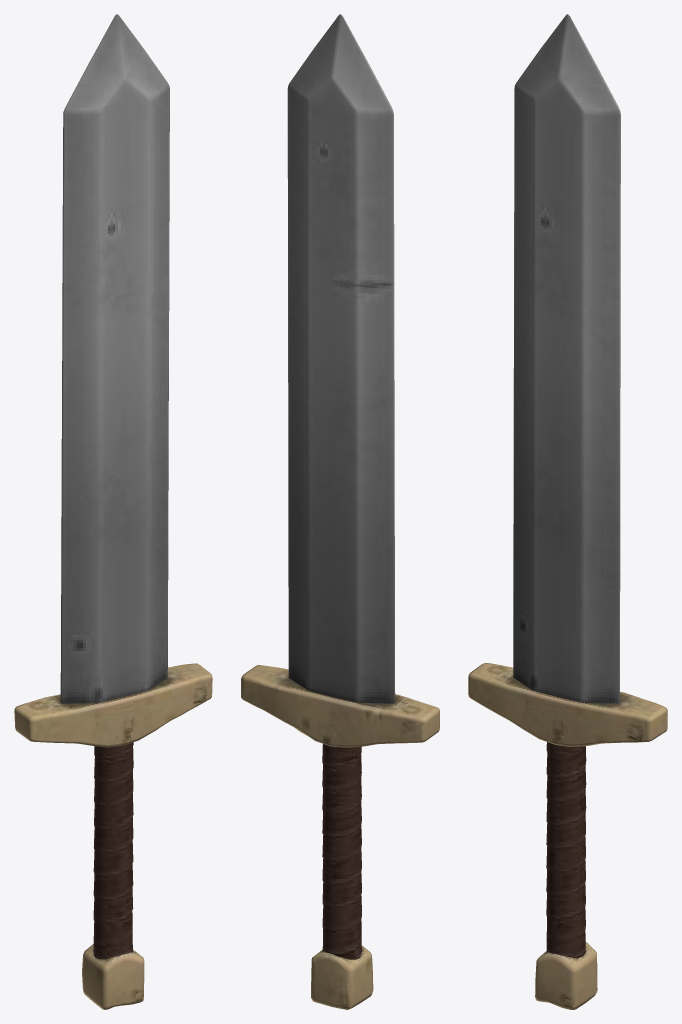
The model's file is stylized_sword.glb.
3 renders of one model, left to right at view 1: azimuth 30°, elevation 25°; view 2: azimuth 150°, elevation 25°; view 3: azimuth 330°, elevation 25°, orthographic.
Visible parts, largest first — view 1: stylized_sword; view 2: stylized_sword; view 3: stylized_sword.
Boxes of the visible parts, x1,y1,x2,y2 form: stylized_sword: [14, 14, 212, 1009]; stylized_sword: [241, 14, 439, 1009]; stylized_sword: [468, 14, 667, 1009].
Bounding box in the file's own units: 0.2041 × 1.04 × 0.0484.
Materials: 1 (1 with a texture image).
